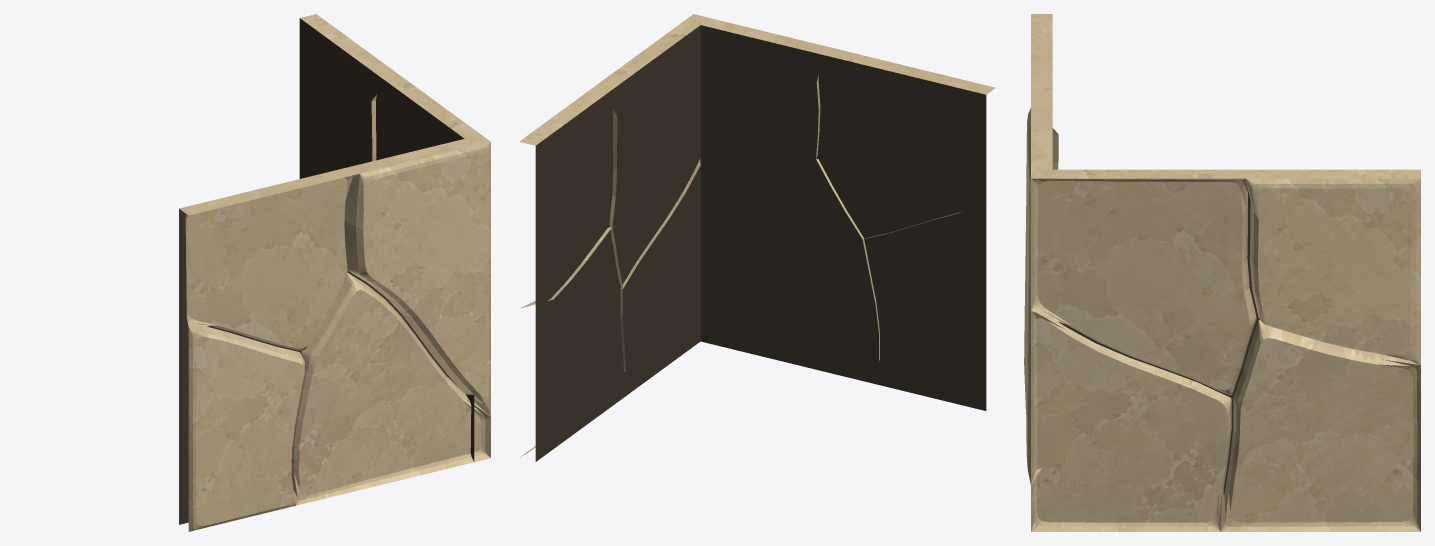
The model's file is ground_square_corner_07.glb.
The picture shows the model from 3 angles, left to right: view 1: azimuth 30°, elevation 25°; view 2: azimuth 150°, elevation 25°; view 3: azimuth 270°, elevation 25°; orthographic projection. The views are drawn at different scales.
Parts seen in each view (by area): view 1: GroundSquareCorner07_Body; view 2: GroundSquareCorner07_Body; view 3: GroundSquareCorner07_Body.
Boxes of the visible parts, x1,y1,x2,y2 form: GroundSquareCorner07_Body: (179,14,490,531); GroundSquareCorner07_Body: (519,14,995,461); GroundSquareCorner07_Body: (1024,14,1420,531).
Bounding box in the file's own units: 1.01 × 1 × 1.02.
Materials: 10 (9 with a texture image).
